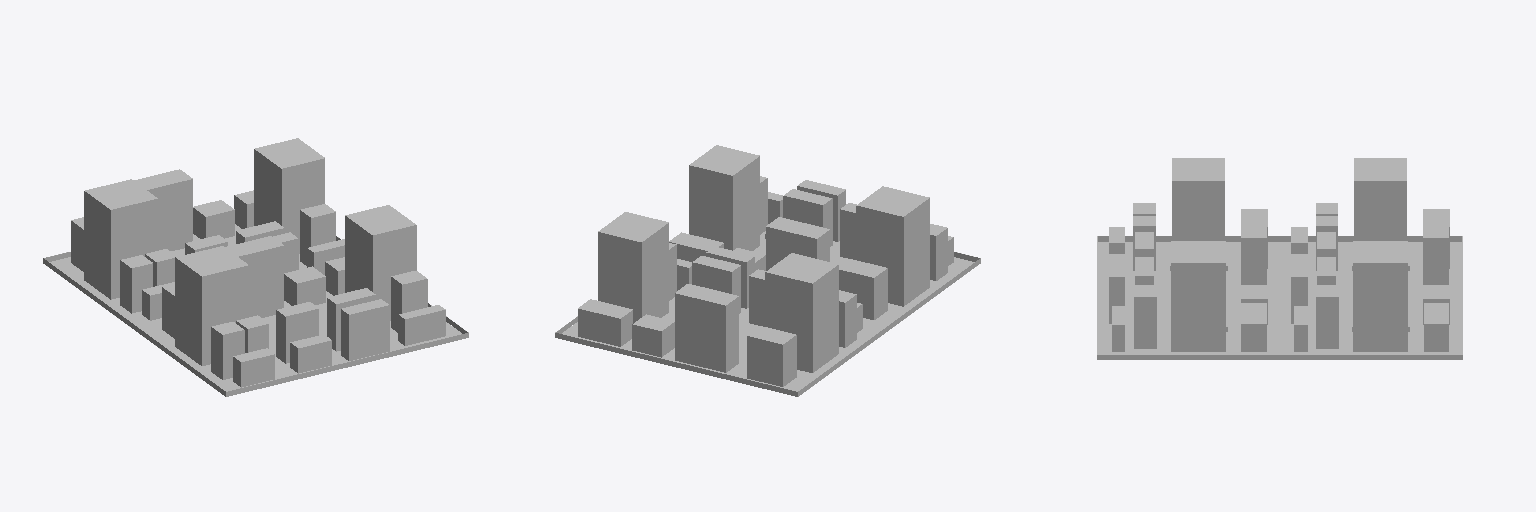
File: DefinitiveCityHitbox.obj
3 renders of one model, left to right at view 1: azimuth 30°, elevation 25°; view 2: azimuth 150°, elevation 25°; view 3: azimuth 270°, elevation 25°, orthographic.
Parts seen in each view (by area): view 1: Box087.001_bbox, Box087_bbox, Box072_bbox, Box072.001_bbox, Box086.001_bbox, Box086_bbox, Box079_bbox, Plane001_bbox, Box076_bbox, Box075_bbox, Box067_bbox, Box085_bbox (+19 smaller); view 2: Box087_bbox, Box087.001_bbox, Box072.001_bbox, Box072_bbox, Box086.001_bbox, Box089.001_bbox, Plane001.001_bbox, Box086_bbox, Box089_bbox, Box090.001_bbox, Plane001_bbox, Box077_bbox (+10 smaller); view 3: Plane001.001_bbox, Plane001_bbox, Box072_bbox, Box072.001_bbox, Box087_bbox, Box087.001_bbox, Box086_bbox, Box086.001_bbox, Box085_bbox, Box085.001_bbox, Box090_bbox, Box090.001_bbox (+9 smaller).
Boxes of the visible parts, x1,y1,x2,y2 form: Box087.001_bbox: [84, 179, 157, 299]; Box087_bbox: [175, 246, 248, 365]; Box072_bbox: [345, 205, 416, 320]; Box072.001_bbox: [254, 138, 324, 253]; Box086.001_bbox: [133, 169, 192, 250]; Box086_bbox: [225, 236, 283, 317]; Box079_bbox: [341, 299, 389, 360]; Plane001_bbox: [141, 291, 461, 391]; Box076_bbox: [276, 302, 318, 363]; Box075_bbox: [398, 305, 445, 345]; Box067_bbox: [211, 322, 244, 379]; Box085_bbox: [391, 271, 427, 332]; Box087_bbox: [856, 186, 929, 306]; Box087.001_bbox: [765, 253, 838, 372]; Box072.001_bbox: [598, 212, 668, 323]; Box072_bbox: [689, 145, 759, 250]; Box086.001_bbox: [675, 284, 738, 372]; Box089.001_bbox: [747, 326, 796, 386]; Plane001.001_bbox: [562, 297, 882, 391]; Box086_bbox: [766, 217, 829, 270]; Box089_bbox: [839, 259, 887, 319]; Box090.001_bbox: [578, 299, 632, 346]; Plane001_bbox: [753, 231, 976, 328]; Box077_bbox: [783, 189, 832, 246]; Plane001.001_bbox: [1279, 242, 1461, 354]; Plane001_bbox: [1098, 242, 1279, 354]; Box072_bbox: [1171, 241, 1225, 351]; Box072.001_bbox: [1353, 241, 1407, 351]; Box087_bbox: [1172, 158, 1224, 240]; Box087.001_bbox: [1354, 158, 1406, 240]; Box086_bbox: [1241, 212, 1266, 284]; Box086.001_bbox: [1423, 212, 1448, 284]; Box085_bbox: [1134, 285, 1156, 348]; Box085.001_bbox: [1316, 285, 1338, 348]; Box090_bbox: [1241, 303, 1266, 351]; Box090.001_bbox: [1424, 303, 1448, 351].
Size of the model in its own units: 245 by 87.3 by 320.